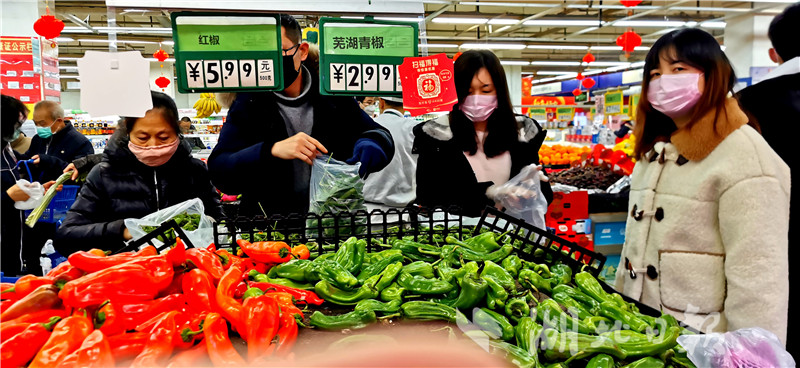rightmask: (641, 25, 738, 150), (447, 44, 521, 144), (29, 101, 69, 145)
wrongmask: (118, 98, 185, 176)
